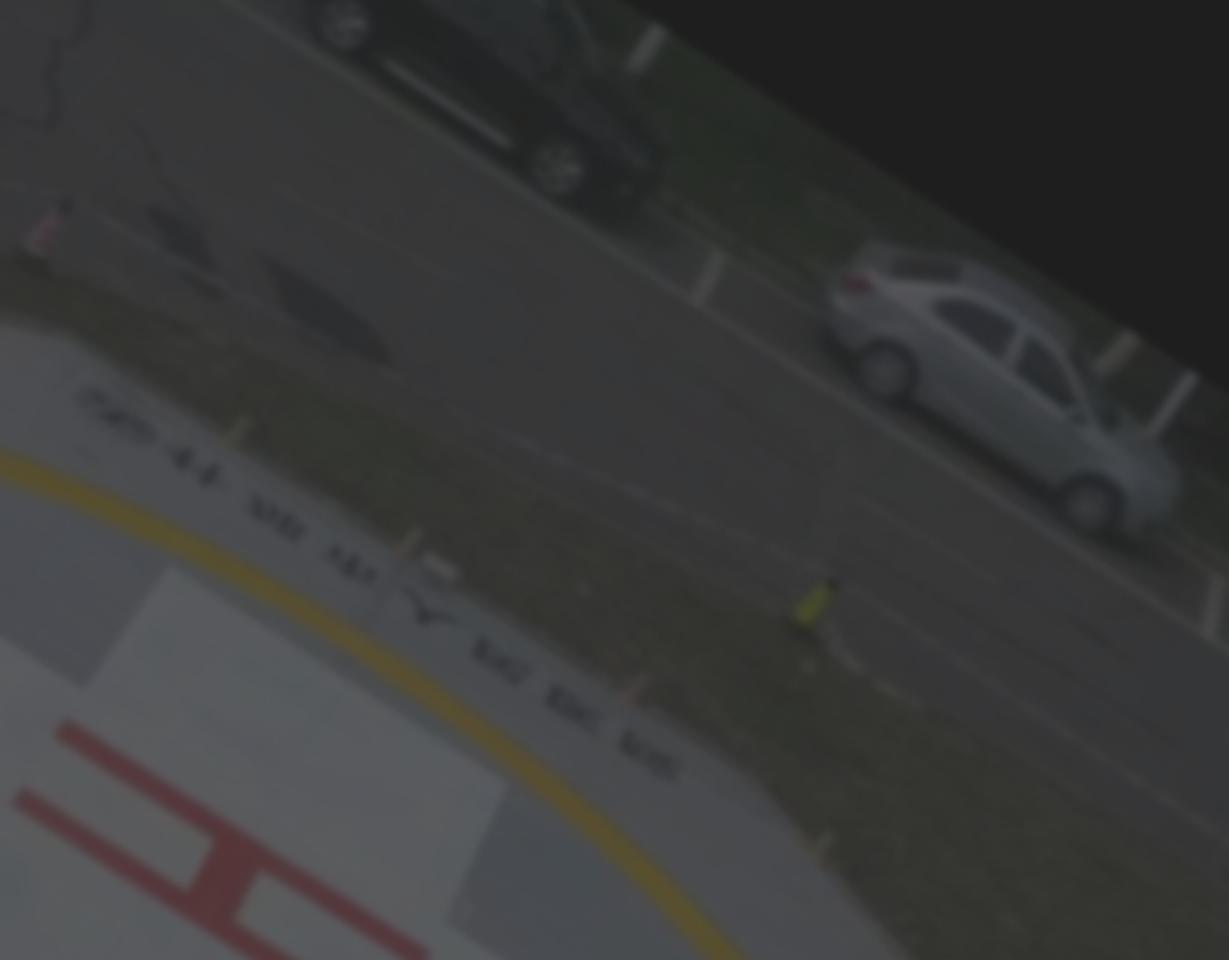Apron: (1, 440, 746, 960)
